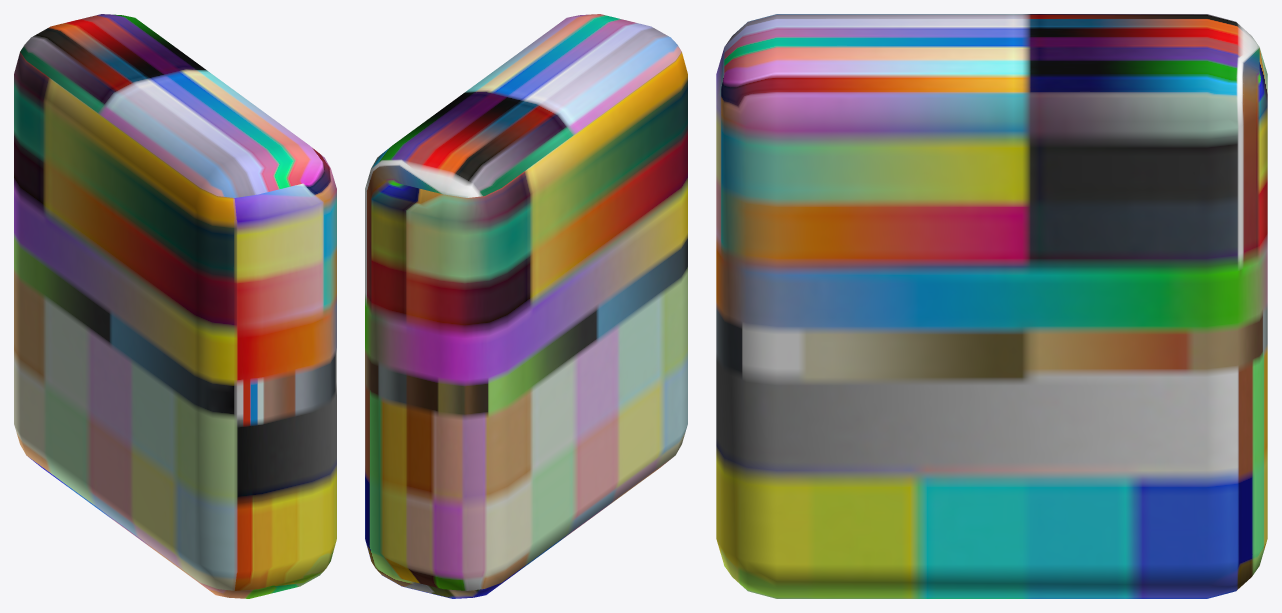
Rendered from TightCube.fbx.
3 views of the same model, side by side, from view 1: azimuth 30°, elevation 25°; view 2: azimuth 150°, elevation 25°; view 3: azimuth 270°, elevation 25° (orthographic). The views are drawn at different scales.
Parts seen in each view (by area): view 1: Cube.004; view 2: Cube.004; view 3: Cube.004.
Part boxes in pixels (x1,y1,x2,y2): Cube.004: [14, 14, 336, 598]; Cube.004: [365, 14, 687, 598]; Cube.004: [716, 14, 1267, 598].
Size of the model in its own units: 0.7036 by 2.17 by 2.
